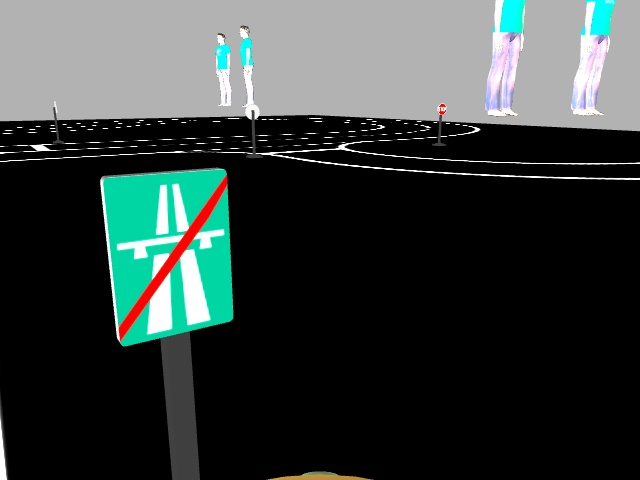HighwayExit: (108, 166, 233, 347)
